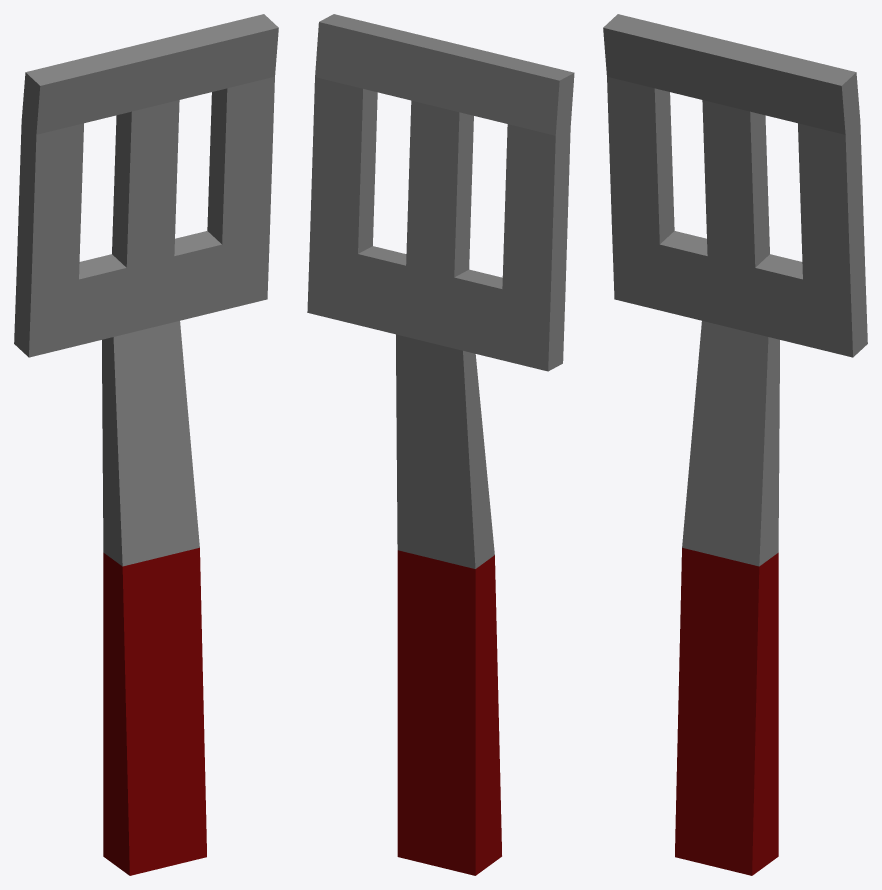
The model's file is Spatula.fbx.
3 views of the same model, side by side, from view 1: azimuth 30°, elevation 25°; view 2: azimuth 150°, elevation 25°; view 3: azimuth 330°, elevation 25° (orthographic).
Parts seen in each view (by area): view 1: Spatula; view 2: Spatula; view 3: Spatula.
Boxes of the visible parts, x1,y1,x2,y2 form: Spatula: (14,14,278,875); Spatula: (307,14,574,875); Spatula: (603,14,867,875).
Bounding box in the file's own units: 0.0984 × 0.3176 × 0.0251.
